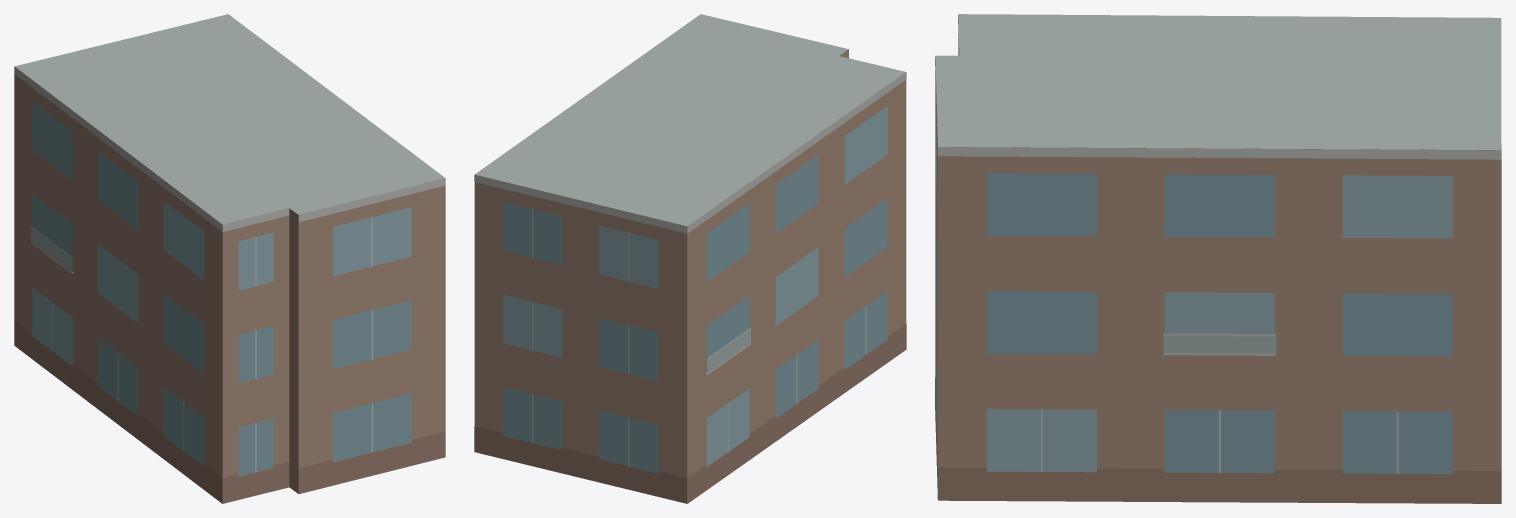
Rendered from survey-upis-32658928.glb.
3 renders of one model, left to right at view 1: azimuth 30°, elevation 25°; view 2: azimuth 150°, elevation 25°; view 3: azimuth 270°, elevation 25°, orthographic. The views are drawn at different scales.
Visible parts, largest first — view 1: survey-upis-32658928.tmp; view 2: survey-upis-32658928.tmp; view 3: survey-upis-32658928.tmp.
Part boxes in pixels (box(x1,y1,x2,y2)): survey-upis-32658928.tmp: box(14, 14, 445, 503); survey-upis-32658928.tmp: box(474, 14, 906, 503); survey-upis-32658928.tmp: box(935, 14, 1501, 503).
Size of the model in its own units: 7.56 by 9.15 by 13.29.
